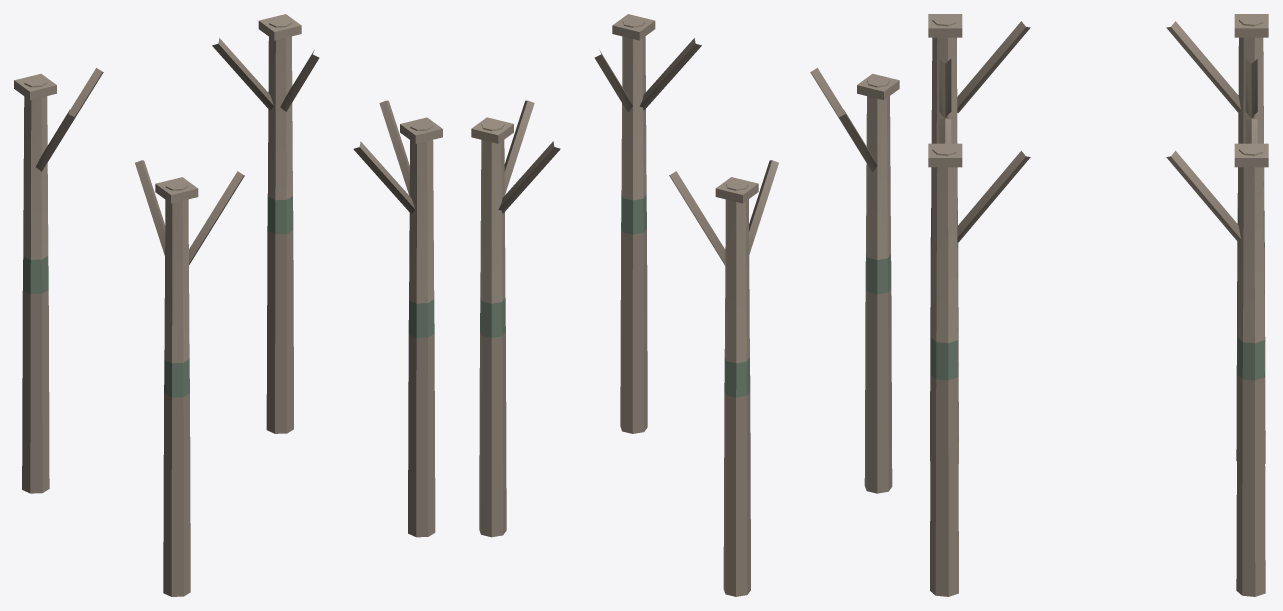
File: piles.glb
3 views of the same model, side by side, from view 1: azimuth 30°, elevation 25°; view 2: azimuth 150°, elevation 25°; view 3: azimuth 270°, elevation 25° (orthographic). The views are drawn at different scales.
Bounding box in the file's own units: 4 × 5.72 × 4.
